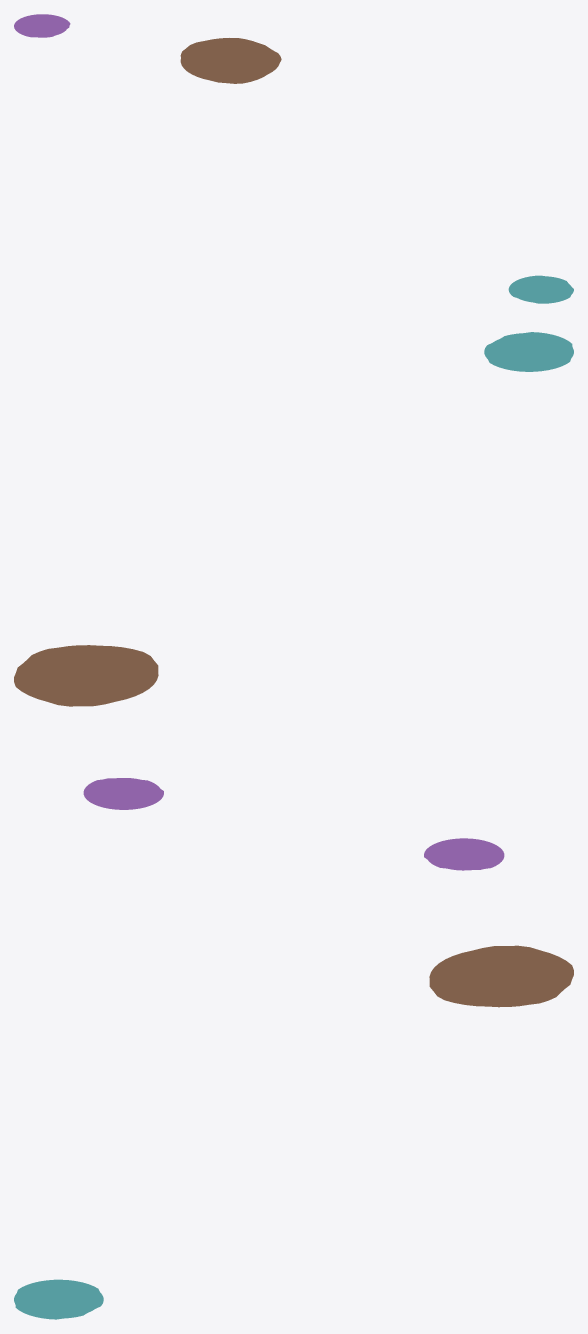
File: CandyForest_Water.fbx
The picture shows the model from 3 angles, top to bottom: view 1: azimuth 30°, elevation 25°; view 2: azimuth 150°, elevation 25°; view 3: azimuth 330°, elevation 25°; orthographic projection. The views are drawn at different scales.
Parts seen in each view (by area): view 1: CAN_Water_ChocolatePond, CAN_Water_SyrupPond, CAN_Water_CursedPuddle; view 2: CAN_Water_ChocolatePond, CAN_Water_SyrupPond, CAN_Water_CursedPuddle; view 3: CAN_Water_ChocolatePond, CAN_Water_SyrupPond, CAN_Water_CursedPuddle.
Boxes of the visible parts, box(x1,y1,x2,y2) form: CAN_Water_ChocolatePond: box(180, 38, 281, 83); CAN_Water_SyrupPond: box(508, 275, 573, 303); CAN_Water_CursedPuddle: box(14, 14, 70, 37); CAN_Water_ChocolatePond: box(14, 645, 158, 706); CAN_Water_SyrupPond: box(484, 332, 573, 371); CAN_Water_CursedPuddle: box(83, 778, 163, 809); CAN_Water_ChocolatePond: box(429, 945, 573, 1007); CAN_Water_SyrupPond: box(14, 1279, 103, 1319); CAN_Water_CursedPuddle: box(424, 838, 504, 870).
Size of the model in its own units: 62.27 by 0.4774 by 261.
